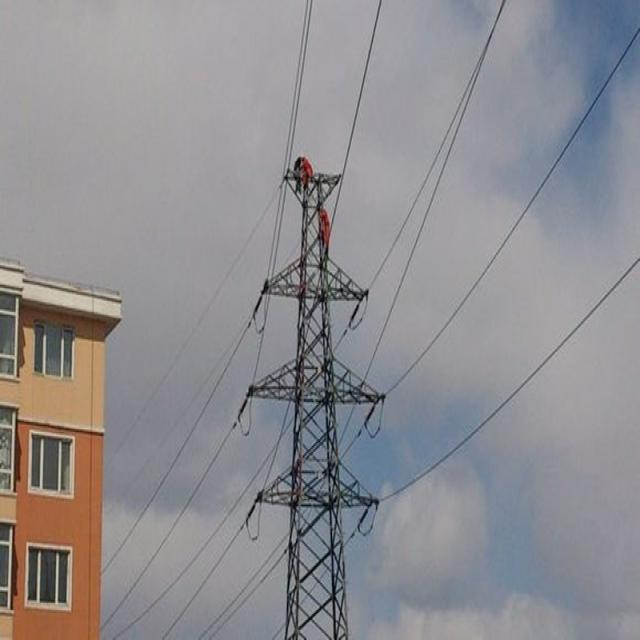non-critical vegetation: (242, 158, 392, 633)
